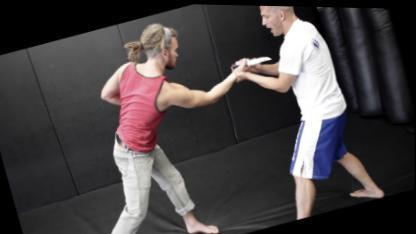knife: (226, 46, 274, 73)
